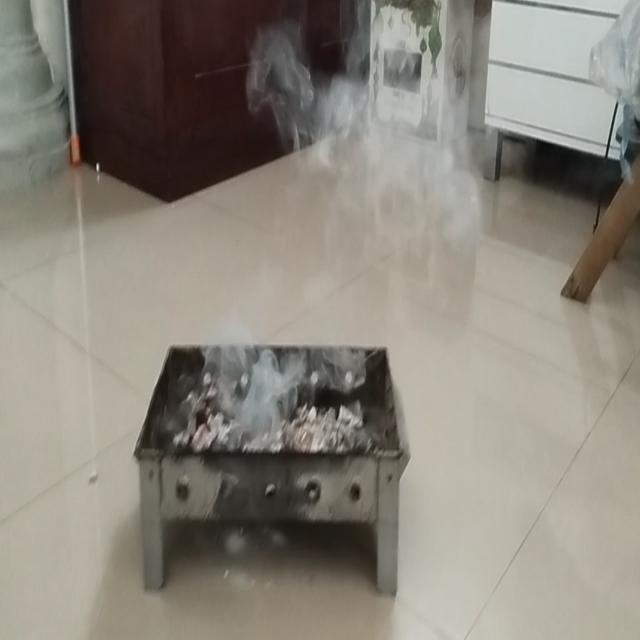smoke: (300, 92, 432, 303)
